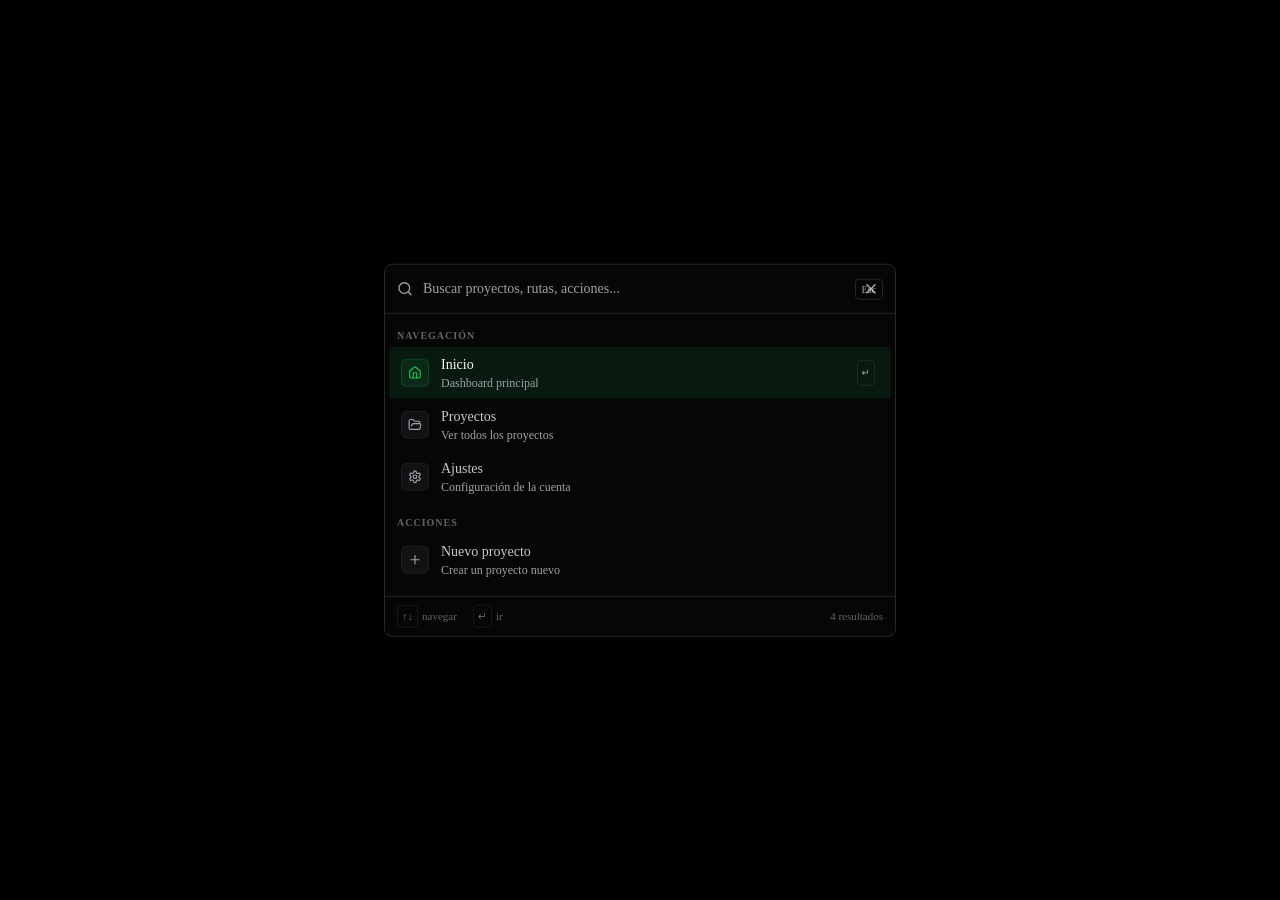
Scenario: CommandPalette › filters by query against label and description
The image size is (1280, 900).
Type "mina" into the field with placeholder "Buscar proyectos, rutas, acciones...". click: [634, 289]
box: [423,267,844,311]
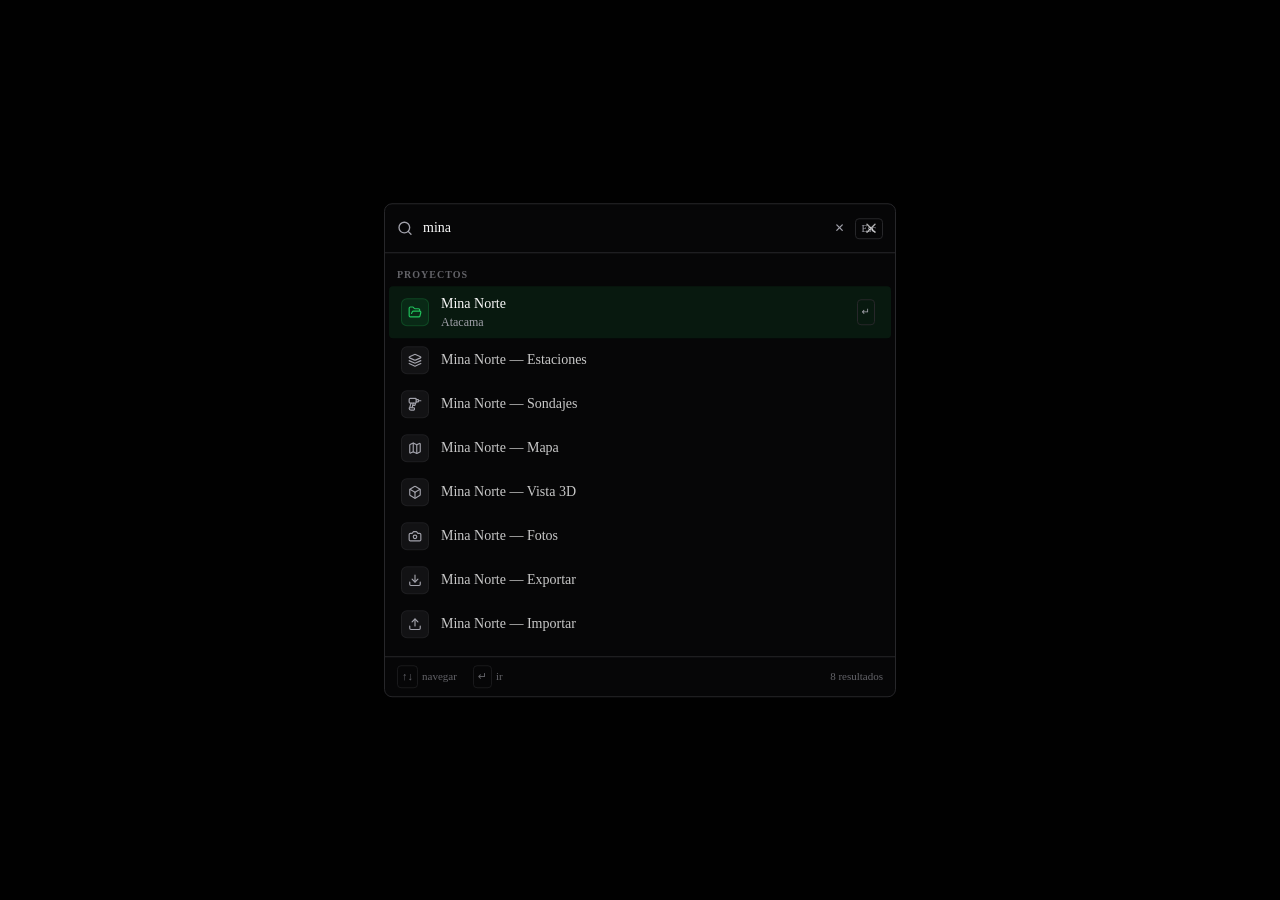
Result: the text "Mina Norte" is shown at [441,296,506,311]
